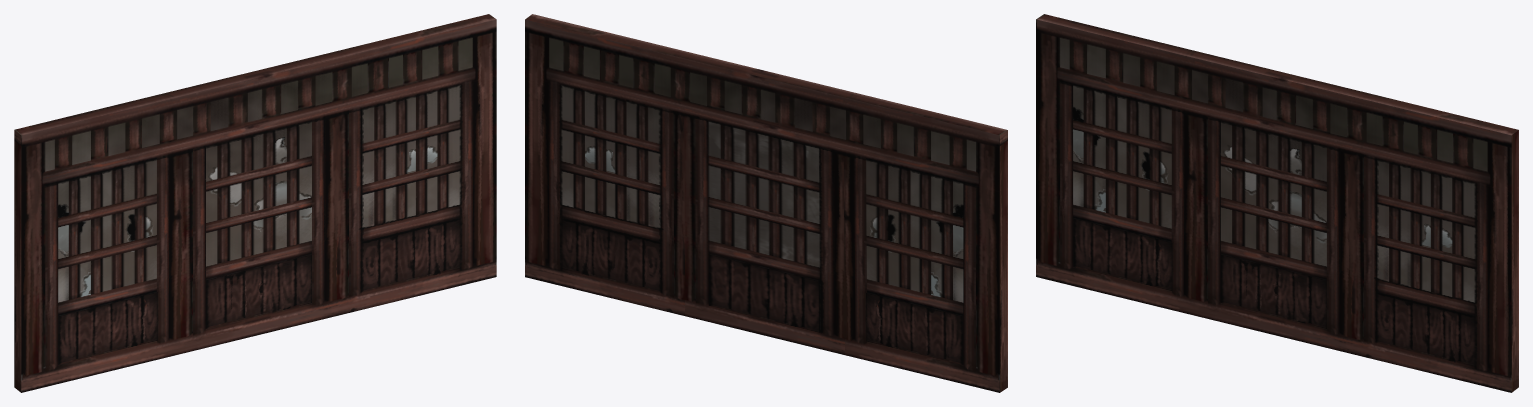
The model's file is STR_WallHouseA02.FBX.
3 views of the same model, side by side, from view 1: azimuth 30°, elevation 25°; view 2: azimuth 150°, elevation 25°; view 3: azimuth 330°, elevation 25° (orthographic).
Visible parts, largest first — view 1: STR_WallHouseA02; view 2: STR_WallHouseA02; view 3: STR_WallHouseA02.
Boxes of the visible parts, box(x1,y1,x2,y2) form: STR_WallHouseA02: box(14, 14, 496, 392); STR_WallHouseA02: box(525, 14, 1007, 392); STR_WallHouseA02: box(1036, 14, 1518, 392).
Size of the model in its own units: 666 by 345 by 18.29.
